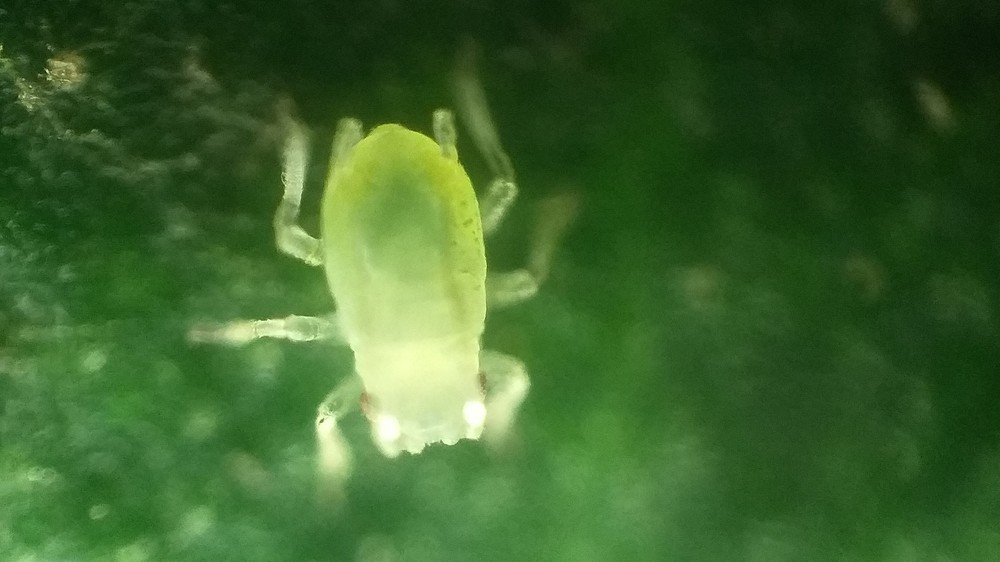Pulgon: (199, 84, 610, 480)
